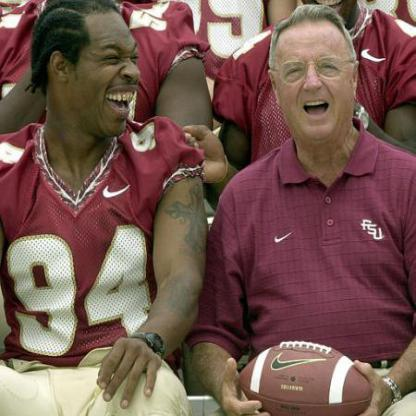face: (69, 1, 159, 139), (276, 12, 356, 144)
